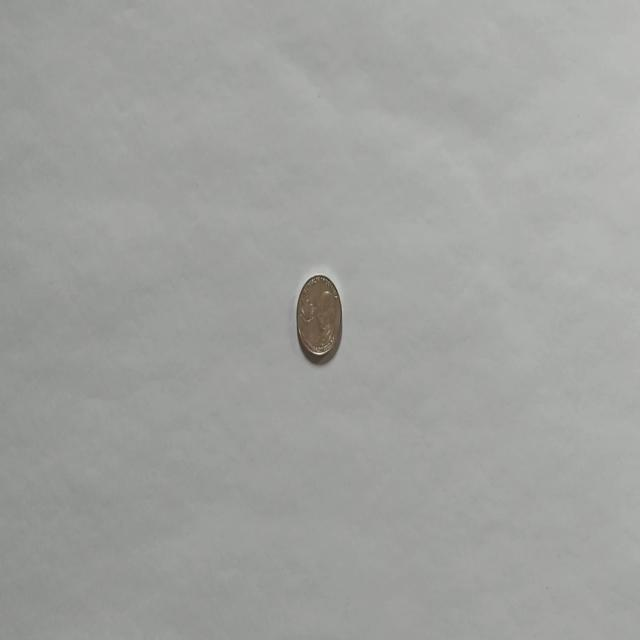lima ratus rupiah: (296, 272, 342, 364)
